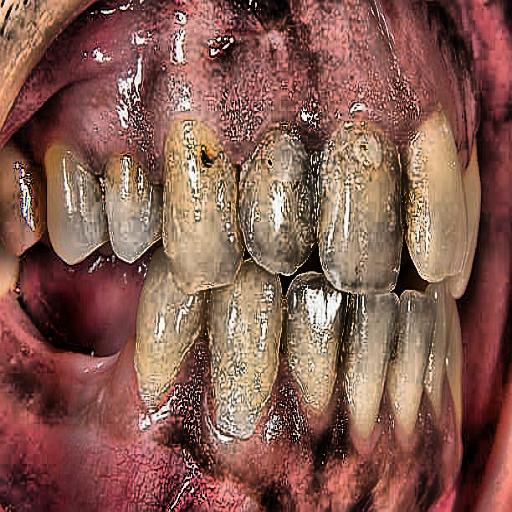Calculus: (35, 84, 476, 246), (104, 258, 456, 444)
